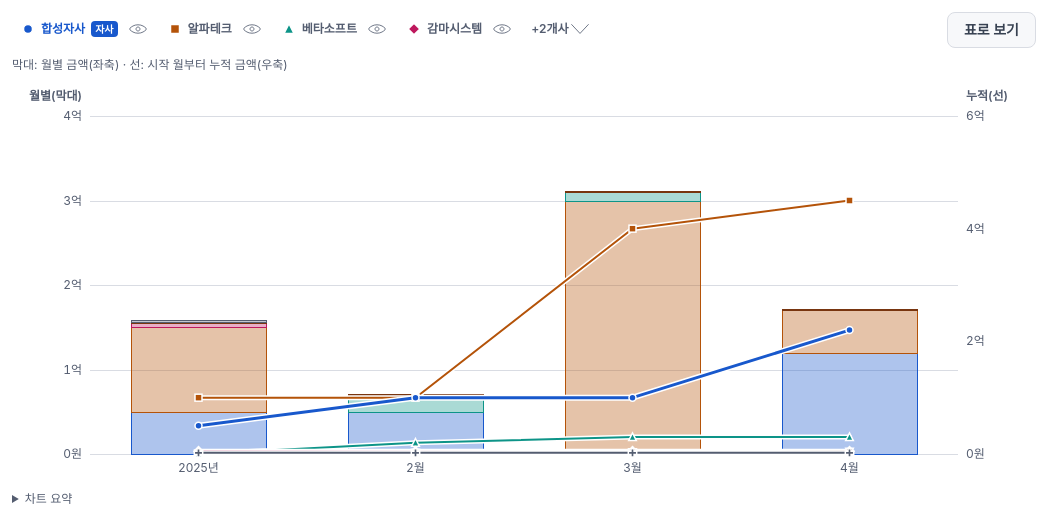
ComboChart — 범례 › 자사 항목은 "자사" 글자 + accent-ours, 4개 넘으면 "+N개사"로 접는다
Check: the number of list items is 4, box [12,12,155,46]; [159,12,269,46]; [273,12,394,46]; [398,12,519,46]
Check: the button "합성자사 자사" is shown, box [13,13,122,45]
Step 1. Click the button "+2개사" → [561, 29], box [523,13,598,45]
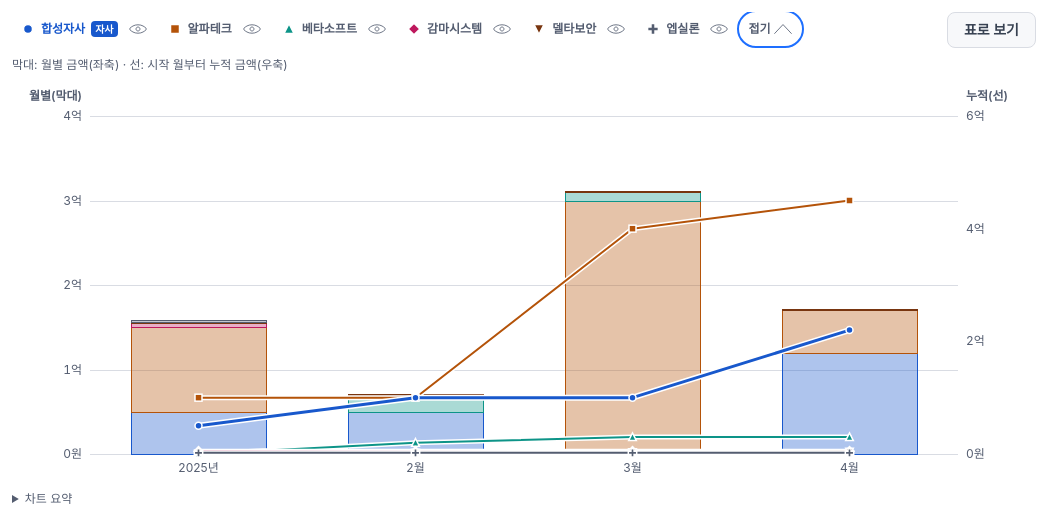
Check: the number of list items is 6, box [12,12,155,46]; [159,12,269,46]; [273,12,394,46]; [398,12,519,46]; [523,12,633,46]; [637,12,736,46]
